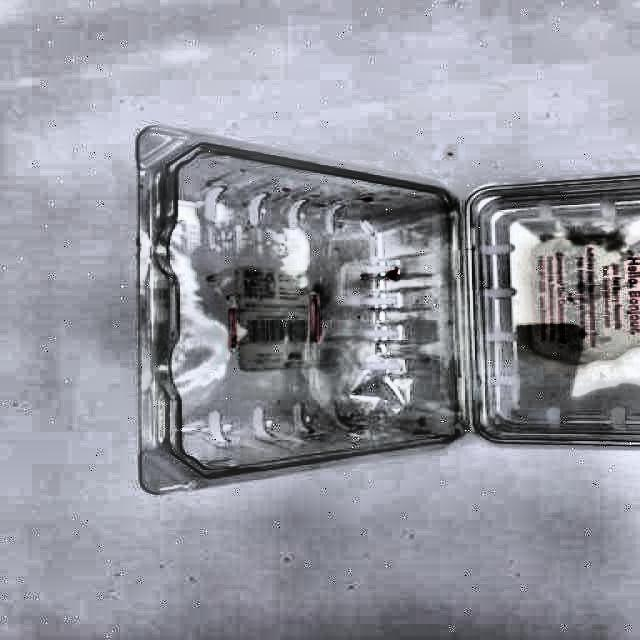plastic: (137, 127, 639, 493)
